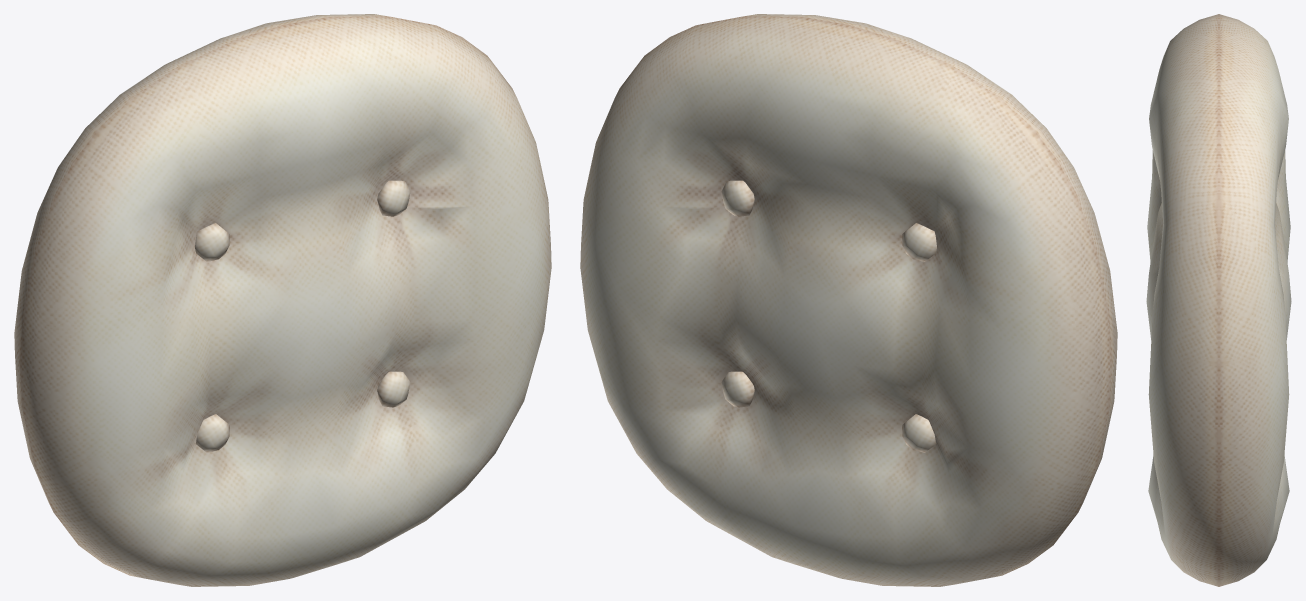
The model's file is ZuoDian_50%.FBX.
The picture shows the model from 3 angles, left to right: view 1: azimuth 30°, elevation 25°; view 2: azimuth 150°, elevation 25°; view 3: azimuth 270°, elevation 25°; orthographic projection. The views are drawn at different scales.
Visible parts, largest first — view 1: ZuoDian; view 2: ZuoDian; view 3: ZuoDian.
Boxes of the visible parts, x1,y1,x2,y2 form: ZuoDian: (14,14,551,586); ZuoDian: (580,14,1117,586); ZuoDian: (1146,14,1291,586).
Size of the model in its own units: 99.89 by 100 by 26.09.
1 material, 1 textured.
